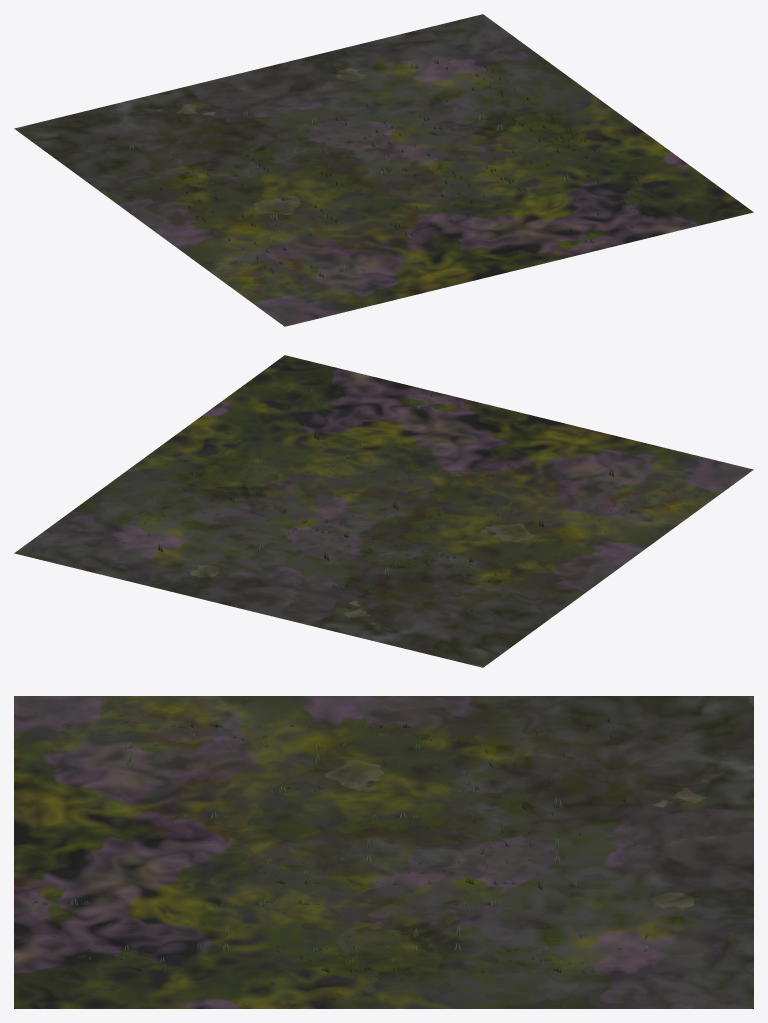
File: Floor1.glb
3 renders of one model, top to bottom at view 1: azimuth 30°, elevation 25°; view 2: azimuth 150°, elevation 25°; view 3: azimuth 270°, elevation 25°, orthographic. The views are drawn at different scales.
Parts seen in each view (by area): view 1: Ground; view 2: Ground; view 3: Ground.
Part boxes in pixels (left/top/right/bottom): Ground: left=14, top=14, right=753, bottom=326; Ground: left=14, top=355, right=753, bottom=667; Ground: left=14, top=696, right=753, bottom=1008.
Bounding box in the file's own units: 64 × 1.52 × 64.
41 materials, 41 textured.
